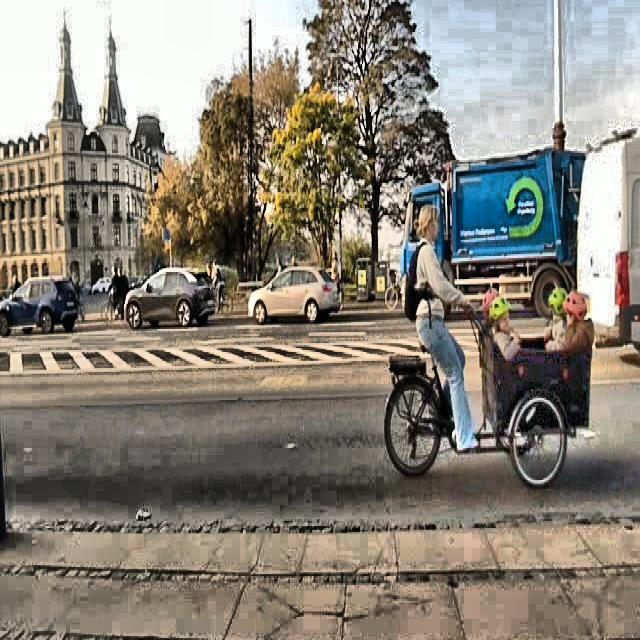ladcykel: (383, 288, 592, 490)
